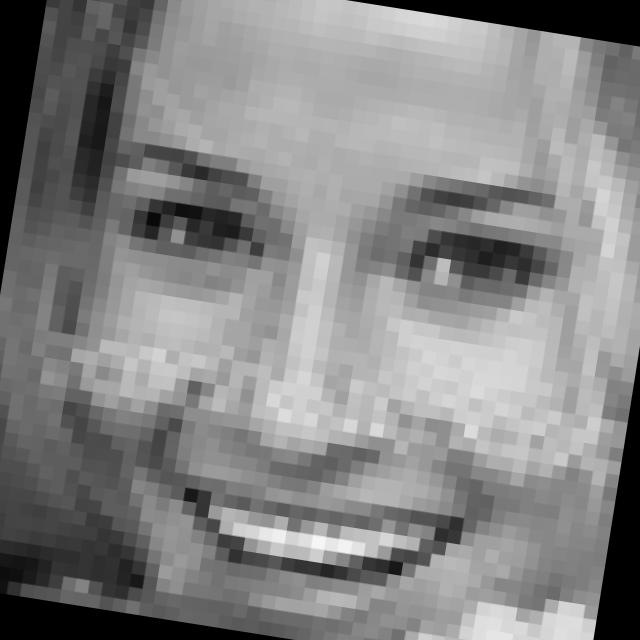happy: (37, 117, 568, 640)
